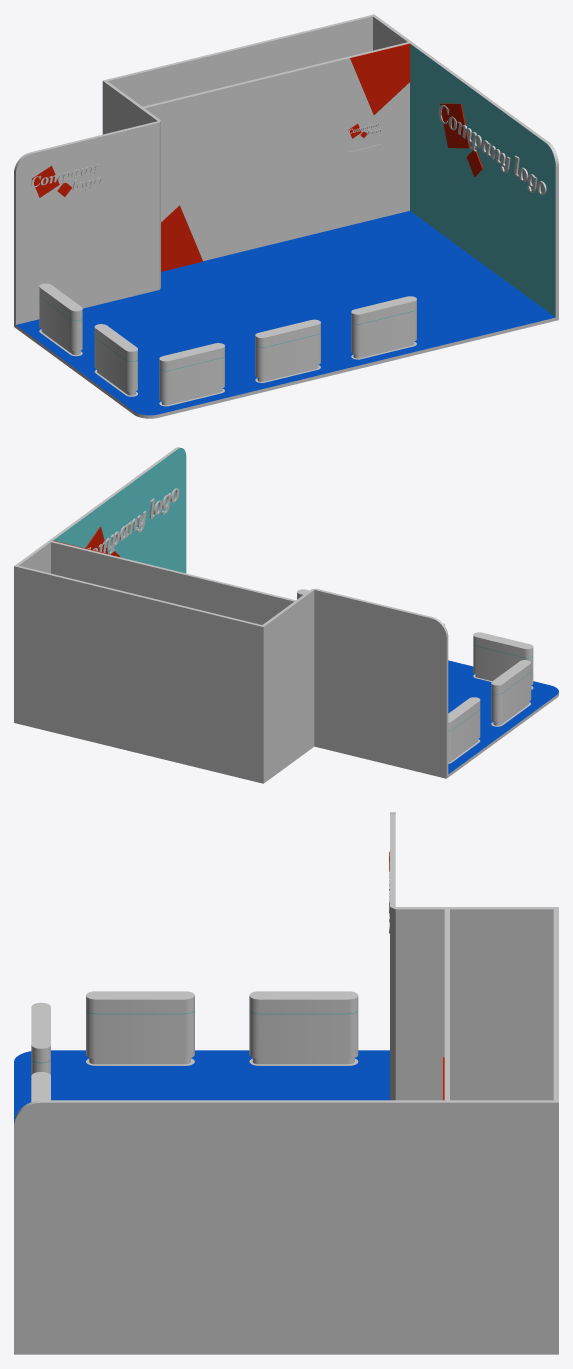
Rendered from stand_2.fbx.
3 renders of one model, top to bottom at view 1: azimuth 30°, elevation 25°; view 2: azimuth 150°, elevation 25°; view 3: azimuth 270°, elevation 25°, orthographic. The views are drawn at different scales.
Parts seen in each view (by area): view 1: stand_2, logo_2, logo_2_1; view 2: stand_2, logo_2; view 3: stand_2.
Boxes of the visible parts, x1,y1,x2,y2 form: stand_2: [14, 14, 558, 418]; logo_2: [438, 105, 546, 195]; logo_2_1: [31, 164, 102, 191]; stand_2: [14, 447, 558, 783]; logo_2: [87, 488, 179, 553]; stand_2: [14, 812, 558, 1354].
Size of the model in its own units: 13 by 5.1 by 10.
